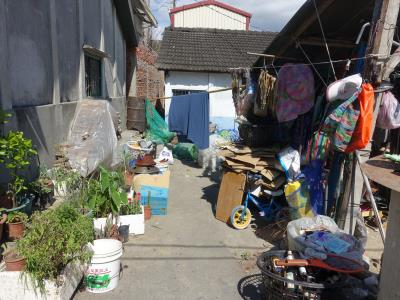box: (137, 184, 171, 217)
bucket: (80, 238, 122, 293), (126, 95, 147, 131)
plastic_bag: (66, 98, 115, 169), (295, 214, 364, 257), (311, 101, 358, 152), (275, 68, 315, 119), (376, 90, 400, 129)
styrofoam: (93, 203, 146, 236)
